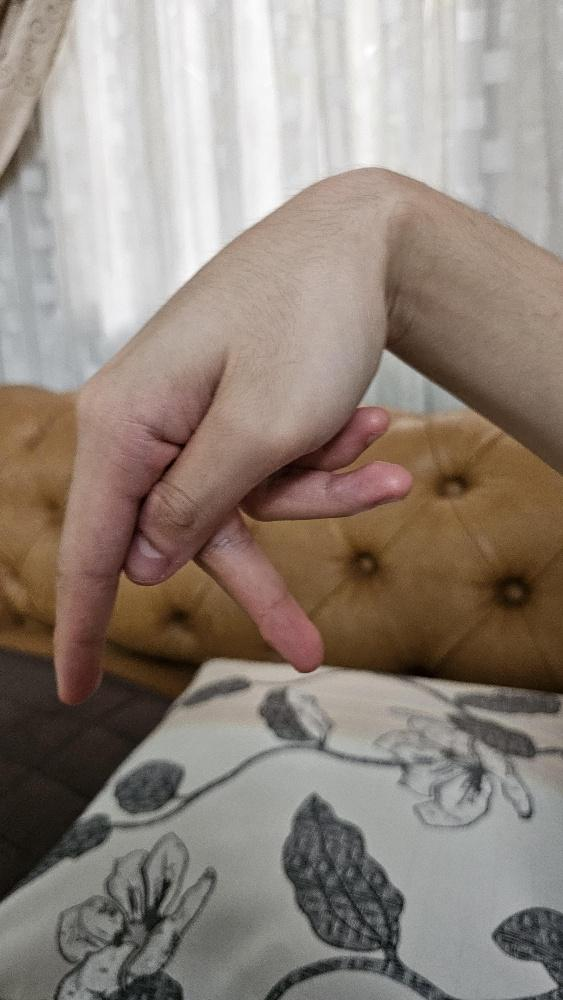p: (49, 161, 418, 704)
